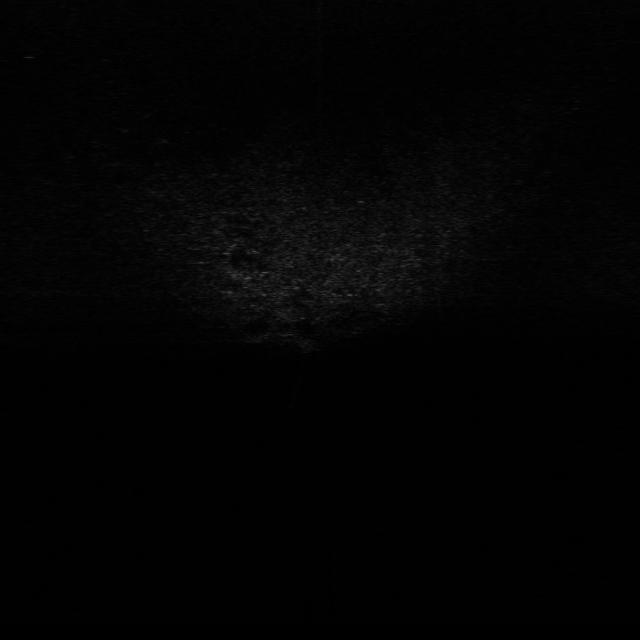cube: (296, 336, 320, 357)
